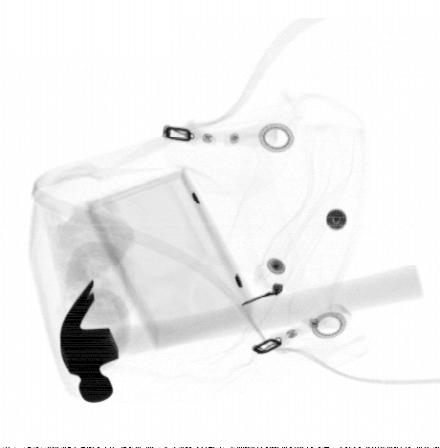Hammer: (58, 263, 424, 404)
